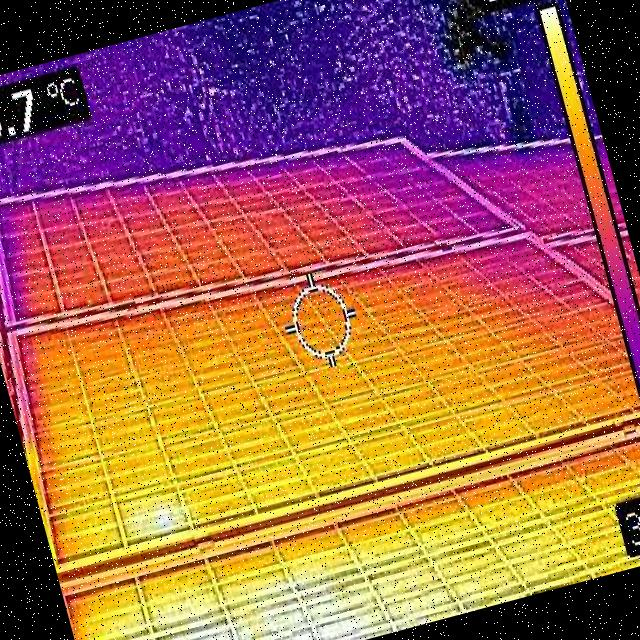Hotspot: (93, 527, 449, 640), (118, 488, 188, 542)
